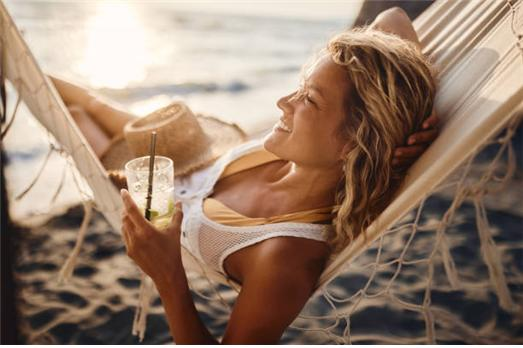alcohol: (123, 154, 177, 233)
